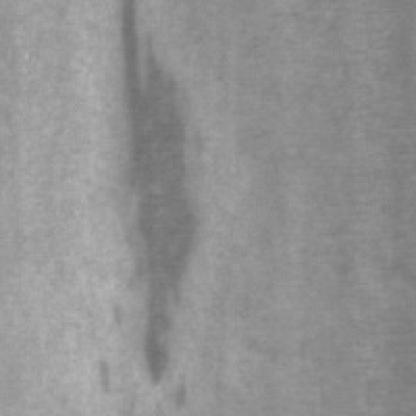inclusion: (108, 4, 198, 395), (83, 350, 117, 408)
